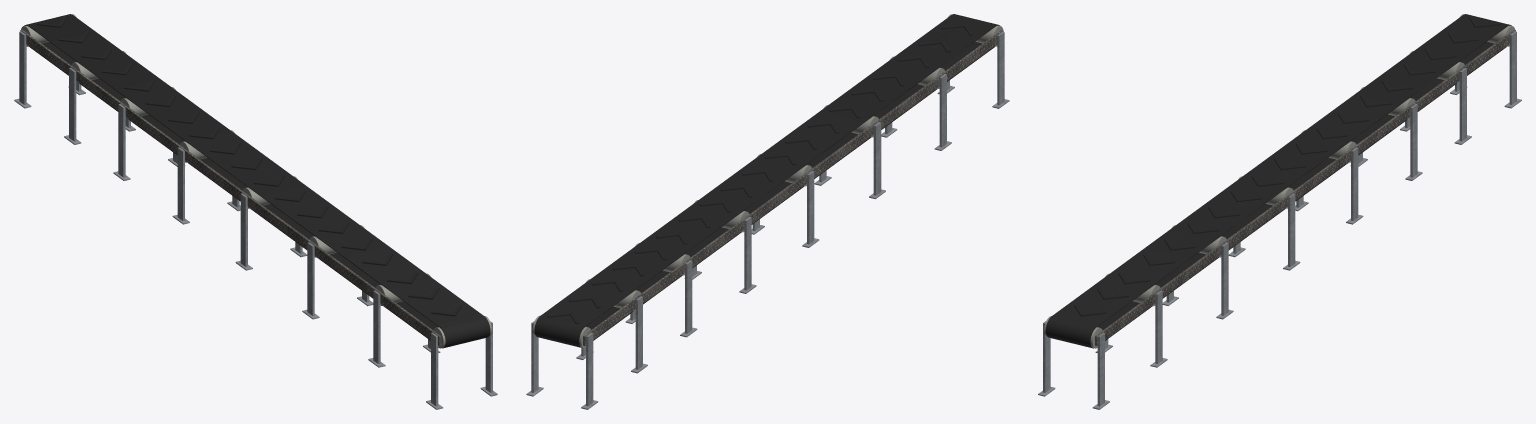
Rendered from Conveyor Belt.fbx.
3 renders of one model, left to right at view 1: azimuth 30°, elevation 25°; view 2: azimuth 150°, elevation 25°; view 3: azimuth 330°, elevation 25°, orthographic.
Visible parts, largest first — view 1: Cylinder001; view 2: Cylinder001; view 3: Cylinder001.
Part boxes in pixels (box(x1,y1,x2,y2)): Cylinder001: box(14, 14, 497, 409); Cylinder001: box(526, 14, 1009, 409); Cylinder001: box(1038, 14, 1521, 409).
Bounding box in the file's own units: 70 × 85.55 × 837.
